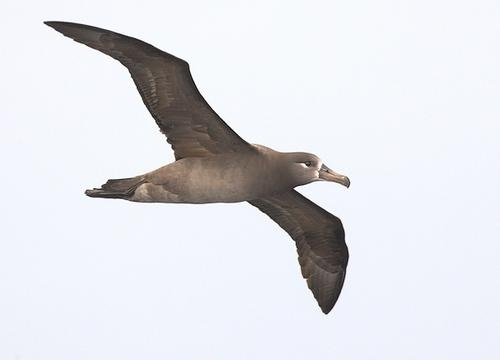bird: (44, 15, 357, 315)
